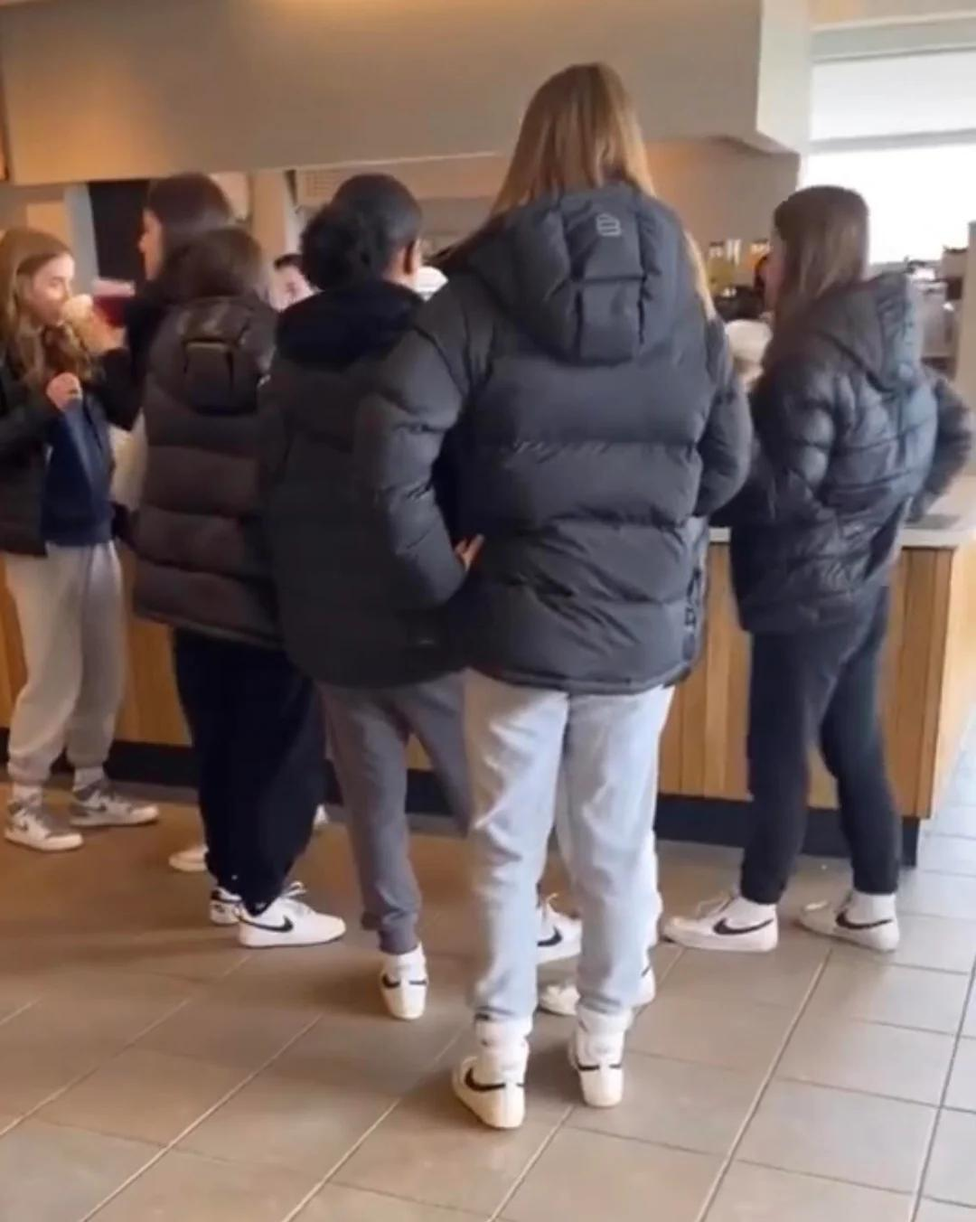coat: (348, 198, 754, 685), (722, 270, 974, 633), (265, 276, 469, 686), (129, 297, 331, 648), (0, 303, 125, 564)
trousers: (467, 662, 673, 1043), (308, 659, 511, 961), (731, 580, 906, 912), (171, 616, 311, 922), (4, 538, 128, 814)
